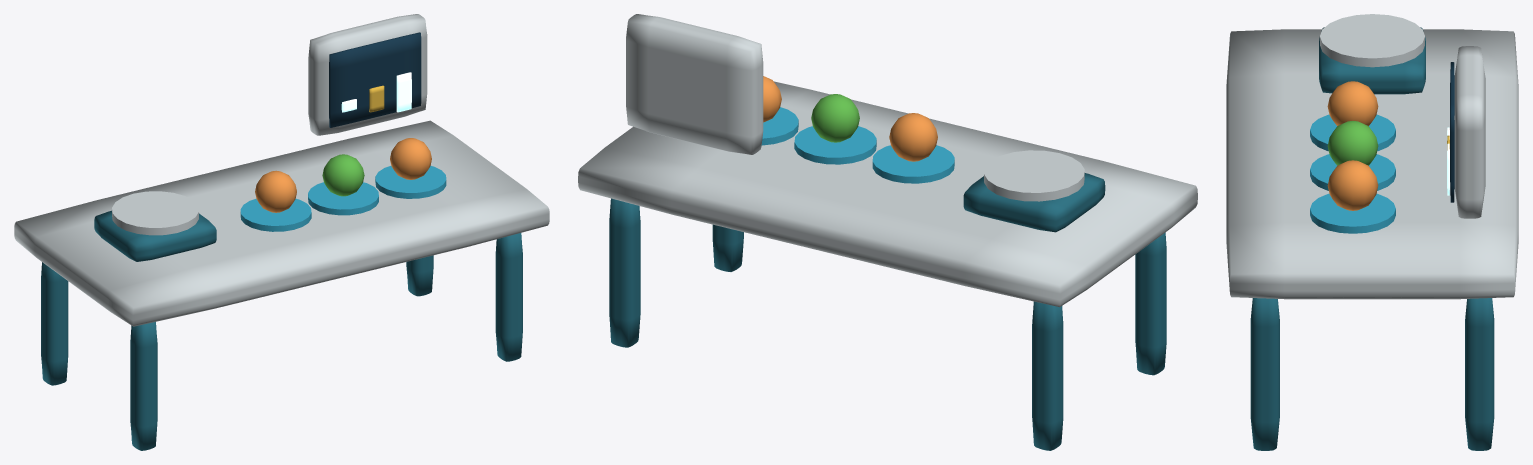
Rendered from mesa-nutricion.glb.
3 renders of one model, left to right at view 1: azimuth 30°, elevation 25°; view 2: azimuth 150°, elevation 25°; view 3: azimuth 270°, elevation 25°, orthographic. The views are drawn at different scales.
Visible parts, largest first — view 1: Blanco, Petroleo, Pantalla, Agua, Naranja, Verde, Luz; view 2: Blanco, Petroleo, Agua, Naranja, Verde; view 3: Blanco, Petroleo, Agua, Naranja, Verde, Pantalla.
Boxes of the visible parts, <box> form: Blanco: <box>14,14,549,326</box>; Petroleo: <box>41,210,522,450</box>; Pantalla: <box>329,32,421,127</box>; Agua: <box>240,166,446,231</box>; Naranja: <box>255,138,431,212</box>; Verde: <box>322,154,364,196</box>; Luz: <box>341,72,411,112</box>; Blanco: <box>578,14,1197,307</box>; Petroleo: <box>609,173,1166,450</box>; Agua: <box>761,107,954,183</box>; Naranja: <box>763,76,937,161</box>; Verde: <box>811,94,859,142</box>; Blanco: <box>1226,14,1518,299</box>; Petroleo: <box>1250,27,1494,450</box>; Agua: <box>1310,114,1395,233</box>; Naranja: <box>1327,81,1378,210</box>; Verde: <box>1327,121,1378,165</box>; Pantalla: <box>1450,62,1454,202</box>.
Size of the model in its own units: 4.35 by 2.79 by 2.17.
